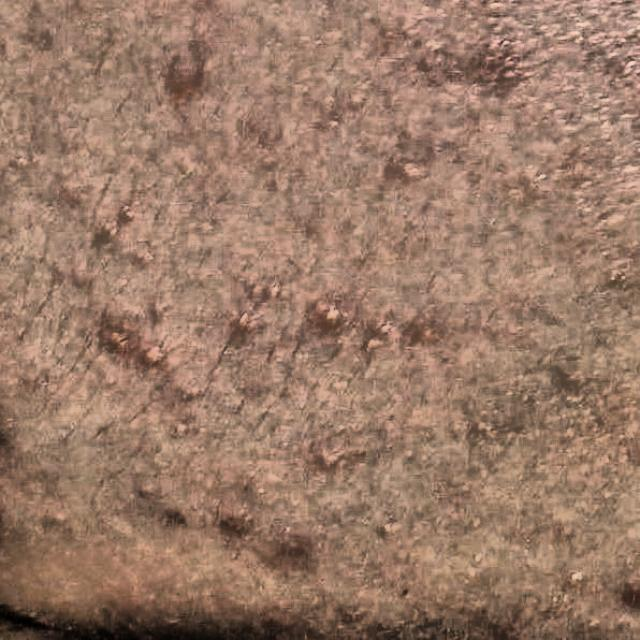whiteheads: (318, 297, 351, 341), (313, 445, 345, 475), (106, 328, 136, 360), (230, 310, 258, 340), (369, 314, 400, 338), (140, 342, 164, 367), (358, 331, 383, 354), (262, 278, 284, 304), (398, 159, 424, 181), (114, 203, 140, 224), (169, 418, 193, 437), (136, 482, 158, 502), (569, 566, 587, 588), (467, 549, 487, 566), (380, 519, 396, 540), (402, 444, 416, 464), (253, 483, 269, 500)
